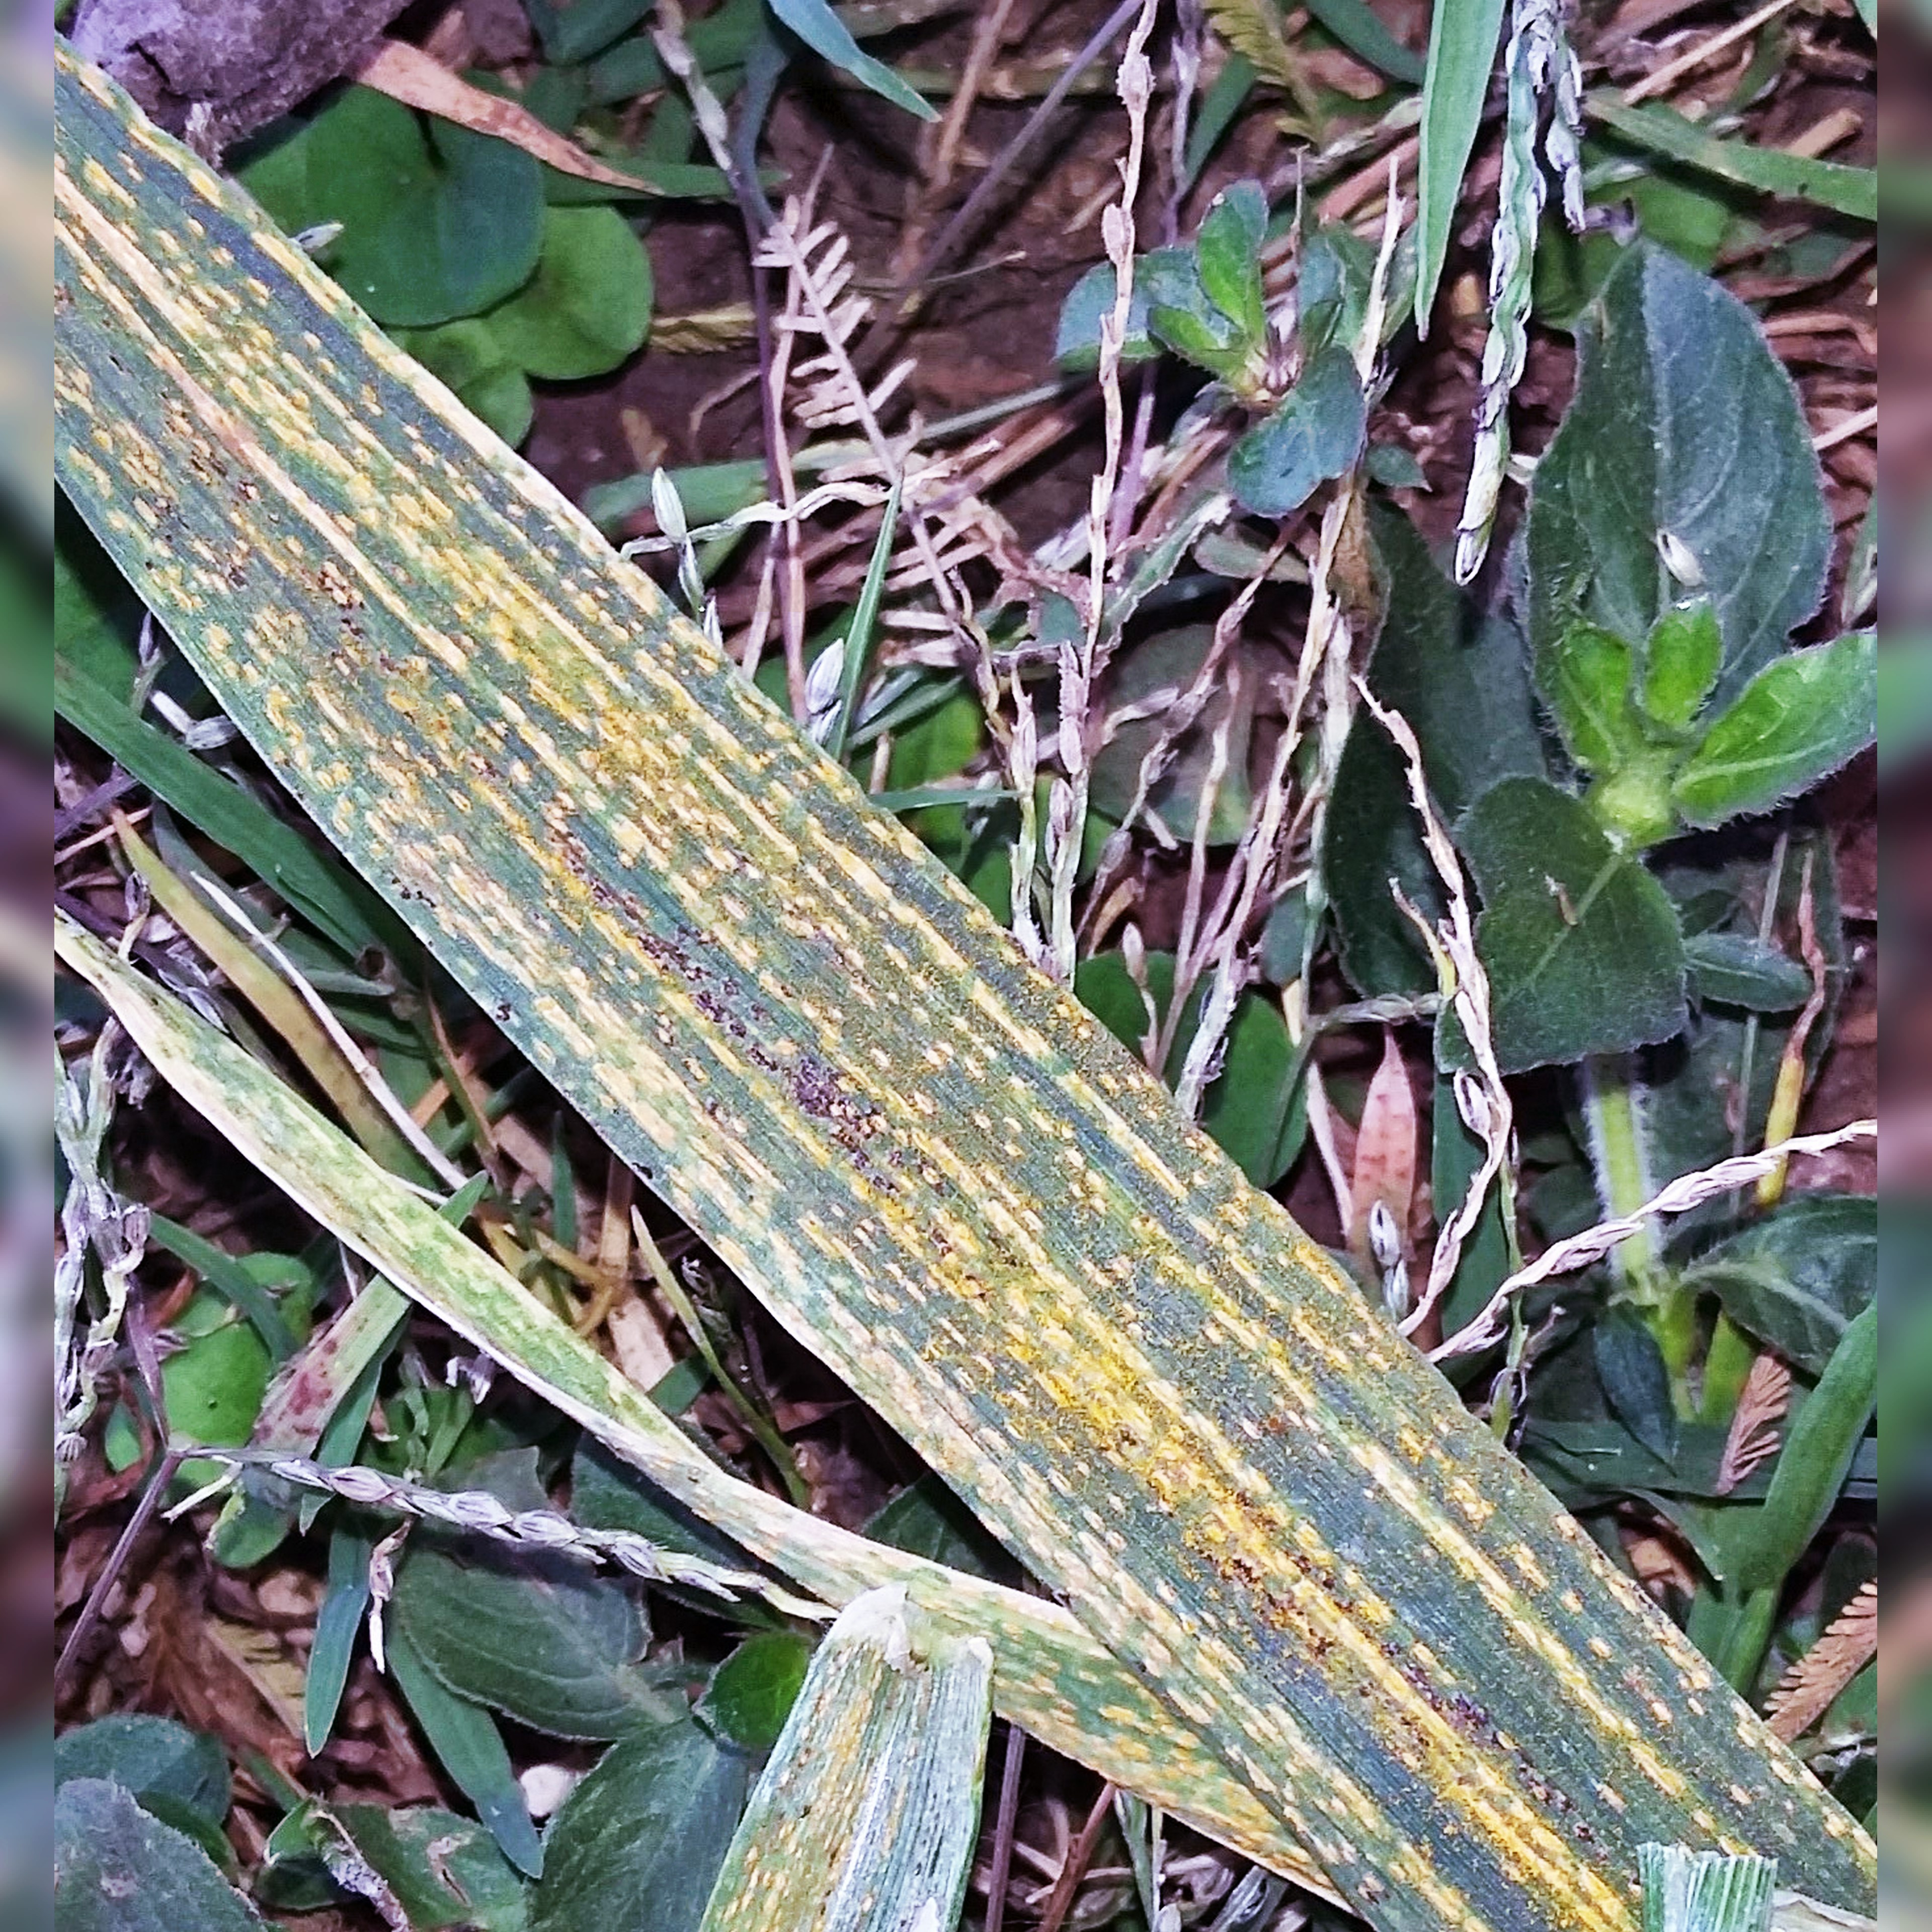Leaf Rust: (133, 419, 1514, 1743)
